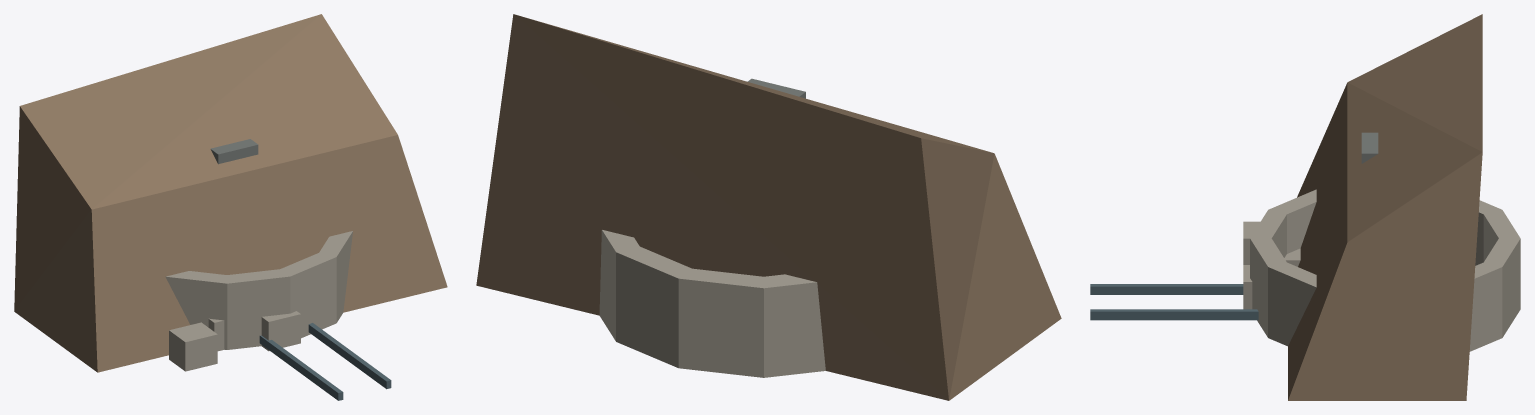
Rendered from ENV_CastleMount_Kit_LOD1.glb.
3 renders of one model, left to right at view 1: azimuth 30°, elevation 25°; view 2: azimuth 150°, elevation 25°; view 3: azimuth 270°, elevation 25°, orthographic. The views are drawn at different scales.
Visible parts, largest first — view 1: ENV_CastleMount_cut_face_LOD1, ENV_CastleMount_basin_segment_LOD1.008, ENV_CastleMount_basin_segment_LOD1.009, ENV_CastleMount_basin_segment_LOD1.007, ENV_CastleMount_cut_block_LOD1, ENV_CastleMount_basin_segment_LOD1.010, ENV_CastleMount_cut_block_LOD1.002, ENV_CastleMount_spur_rail_LOD1.001, ENV_CastleMount_spur_rail_LOD1, ENV_CastleMount_buttress_cap_LOD1; view 2: ENV_CastleMount_cut_face_LOD1, ENV_CastleMount_basin_segment_LOD1.003, ENV_CastleMount_basin_segment_LOD1.002, ENV_CastleMount_basin_segment_LOD1.004, ENV_CastleMount_basin_segment_LOD1.001; view 3: ENV_CastleMount_cut_face_LOD1, ENV_CastleMount_basin_segment_LOD1.010, ENV_CastleMount_basin_segment_LOD1.001, ENV_CastleMount_spur_rail_LOD1.001, ENV_CastleMount_basin_segment_LOD1.002, ENV_CastleMount_basin_segment_LOD1.009, ENV_CastleMount_spur_rail_LOD1, ENV_CastleMount_basin_segment_LOD1.007, ENV_CastleMount_basin_segment_LOD1.003, ENV_CastleMount_basin_segment_LOD1.008, ENV_CastleMount_basin_segment_LOD1.004, ENV_CastleMount_buttress_cap_LOD1 (+2 smaller).
Boxes of the visible parts, <box> form: ENV_CastleMount_cut_face_LOD1: <box>14,14,447,372</box>; ENV_CastleMount_basin_segment_LOD1.008: <box>227,269,290,349</box>; ENV_CastleMount_basin_segment_LOD1.009: <box>280,252,336,338</box>; ENV_CastleMount_basin_segment_LOD1.007: <box>165,271,227,349</box>; ENV_CastleMount_cut_block_LOD1: <box>169,322,217,371</box>; ENV_CastleMount_basin_segment_LOD1.010: <box>319,231,352,322</box>; ENV_CastleMount_cut_block_LOD1.002: <box>261,311,300,351</box>; ENV_CastleMount_spur_rail_LOD1.001: <box>308,323,391,389</box>; ENV_CastleMount_spur_rail_LOD1: <box>259,335,343,400</box>; ENV_CastleMount_buttress_cap_LOD1: <box>210,139,258,164</box>; ENV_CastleMount_cut_face_LOD1: <box>476,14,1061,400</box>; ENV_CastleMount_basin_segment_LOD1.003: <box>678,268,763,377</box>; ENV_CastleMount_basin_segment_LOD1.002: <box>616,246,691,367</box>; ENV_CastleMount_basin_segment_LOD1.004: <box>764,274,825,377</box>; ENV_CastleMount_basin_segment_LOD1.001: <box>599,230,639,340</box>; ENV_CastleMount_cut_face_LOD1: <box>1288,14,1482,400</box>; ENV_CastleMount_basin_segment_LOD1.010: <box>1268,262,1316,346</box>; ENV_CastleMount_basin_segment_LOD1.001: <box>1469,262,1502,351</box>; ENV_CastleMount_spur_rail_LOD1.001: <box>1090,309,1258,320</box>; ENV_CastleMount_basin_segment_LOD1.002: <box>1484,238,1520,337</box>; ENV_CastleMount_basin_segment_LOD1.009: <box>1250,238,1286,337</box>; ENV_CastleMount_spur_rail_LOD1: <box>1090,284,1243,294</box>; ENV_CastleMount_basin_segment_LOD1.007: <box>1268,189,1316,253</box>; ENV_CastleMount_basin_segment_LOD1.003: <box>1483,210,1519,261</box>; ENV_CastleMount_basin_segment_LOD1.008: <box>1250,210,1286,257</box>; ENV_CastleMount_basin_segment_LOD1.004: <box>1475,200,1501,265</box>; ENV_CastleMount_buttress_cap_LOD1: <box>1361,132,1378,163</box>.
Bounding box in the file's own units: 8 × 4.7 × 7.95.
